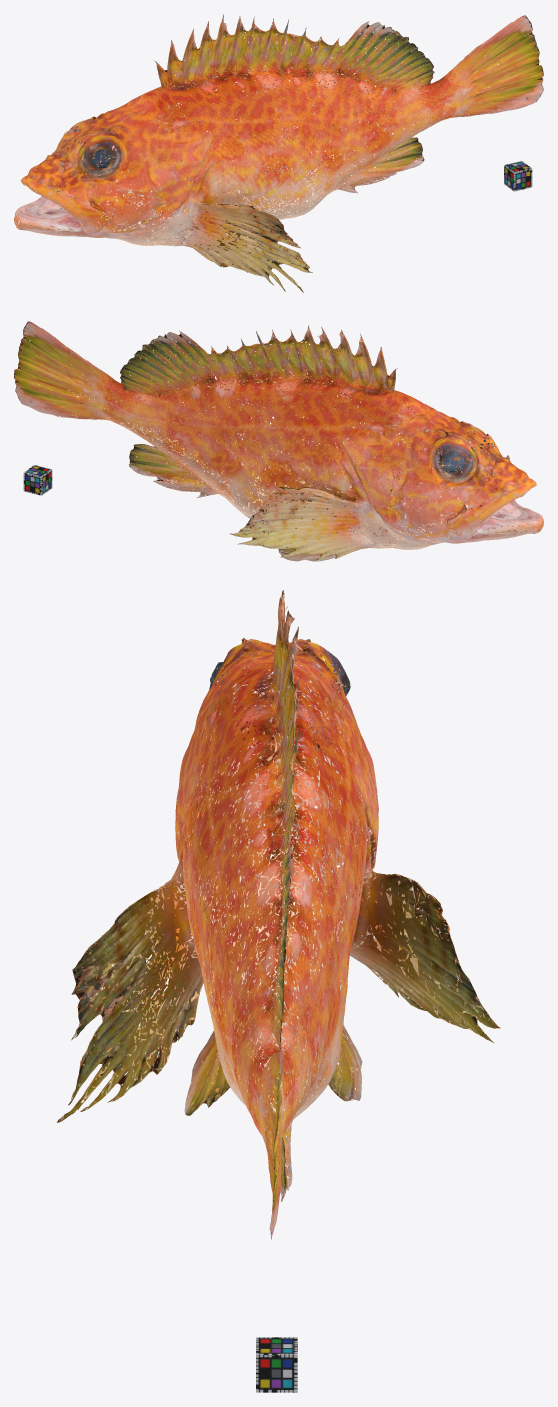
File: scan_rock_yellowbar.glb
The picture shows the model from 3 angles, top to bottom: view 1: azimuth 30°, elevation 25°; view 2: azimuth 150°, elevation 25°; view 3: azimuth 270°, elevation 25°; orthographic projection. The views are drawn at different scales.
Visible parts, largest first — view 1: Object_6, Object_11, Object_17, Object_4; view 2: Object_11, Object_6, Object_17, Object_4; view 3: Object_6, Object_17, Object_11, Object_4.
Part boxes in pixels (box(x1,y1,x2,y2)): Object_6: box(15, 15, 543, 284); Object_11: box(15, 15, 543, 292); Object_17: box(14, 14, 543, 291); Object_4: box(504, 161, 532, 191); Object_11: box(14, 321, 543, 560); Object_6: box(14, 322, 543, 561); Object_17: box(15, 321, 543, 561); Object_4: box(23, 465, 52, 495); Object_6: box(71, 593, 492, 1238); Object_17: box(58, 590, 500, 1216); Object_11: box(57, 610, 488, 1239); Object_4: box(256, 1337, 297, 1392).
Size of the model in its own units: 14.98 by 6.48 by 5.46.
4 materials, 4 textured.
